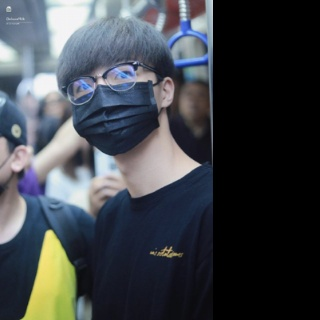with_mask: (70, 56, 164, 156)
